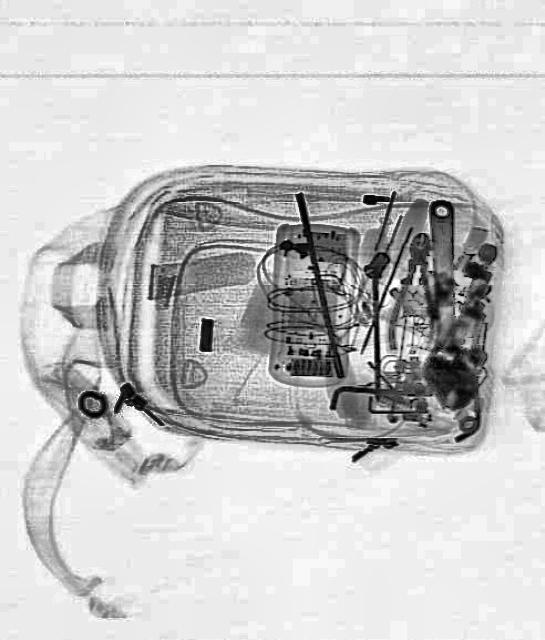Pliers: (386, 228, 444, 356)
Wrench: (414, 199, 480, 413)
